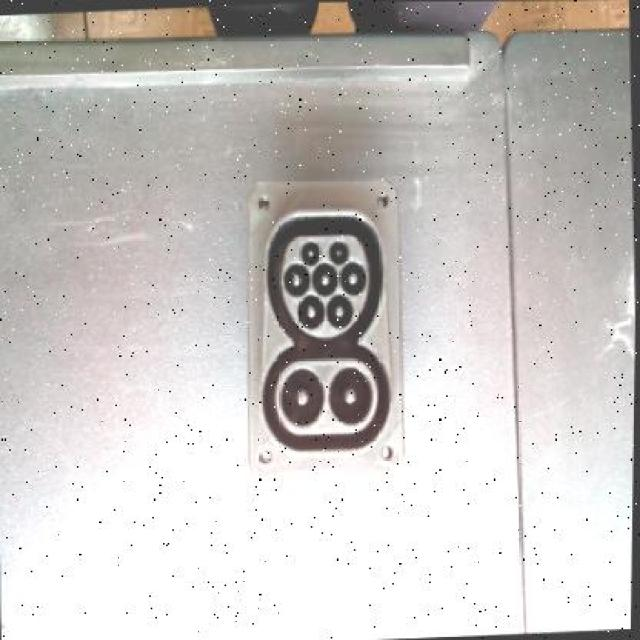CCS2: (240, 179, 412, 472)
